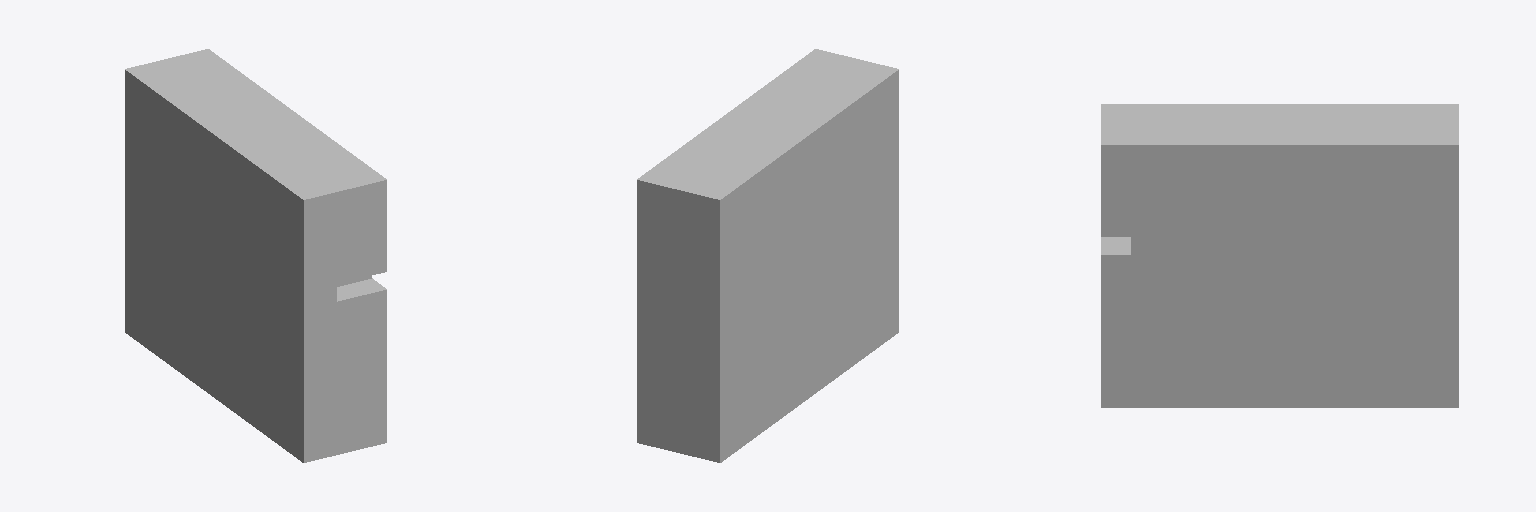
Rendered from Base Gate.obj.
The picture shows the model from 3 angles: view 1: azimuth 30°, elevation 25°; view 2: azimuth 150°, elevation 25°; view 3: azimuth 270°, elevation 25°; orthographic projection.
Visible parts, largest first — view 1: obj_0.002; view 2: obj_0.002; view 3: obj_0.002.
Boxes of the visible parts, <box> form: obj_0.002: <box>125,49,386,462</box>; obj_0.002: <box>637,49,898,462</box>; obj_0.002: <box>1101,104,1458,407</box>.
Bounding box in the file's own units: 10 × 30 × 37.